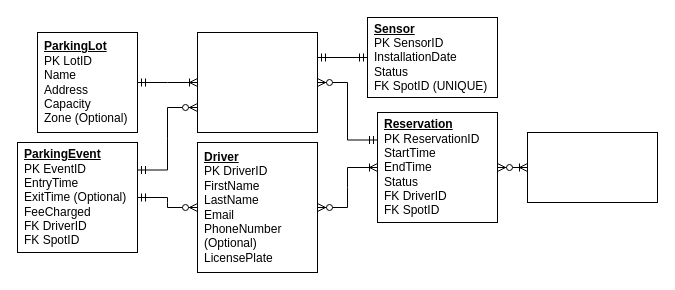
Some shapes in this 675 by 290 pixel diagram are drawn without their labels. Each missing label, with the box of its shape:
AvailabilityRecord PK, FK SpotID PK RecordTimestamp AvailabilityStatus: (526, 132, 658, 202)
ParkingSpot PK SpotID SpotNumber SpotType Status FK LotID: (196, 32, 318, 132)
